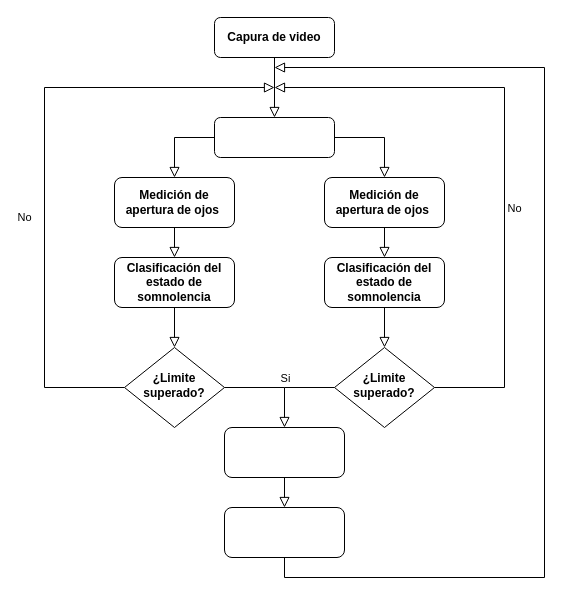
The diagram is 572 pixels wide and 605 high, and some of its shapes have lost their labels. Each missing label, with the centre of its shape:
"Alerta" goes at pixel 284 452.
"Detección de rostro" goes at pixel 274 137.
"Envío de reporte de incidencia" goes at pixel 284 532.
